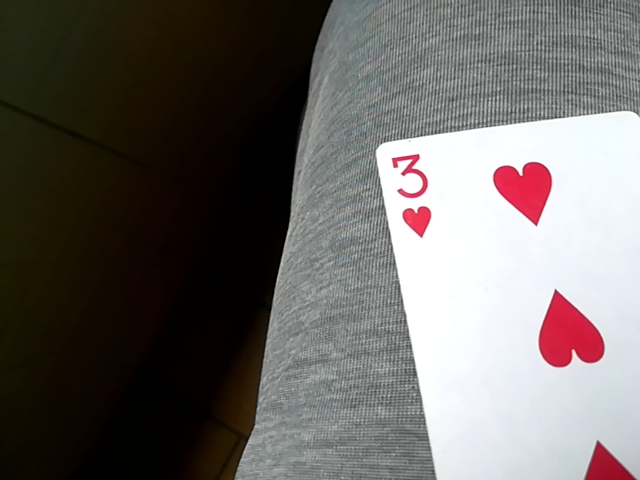hx 3: (374, 104, 640, 479)
